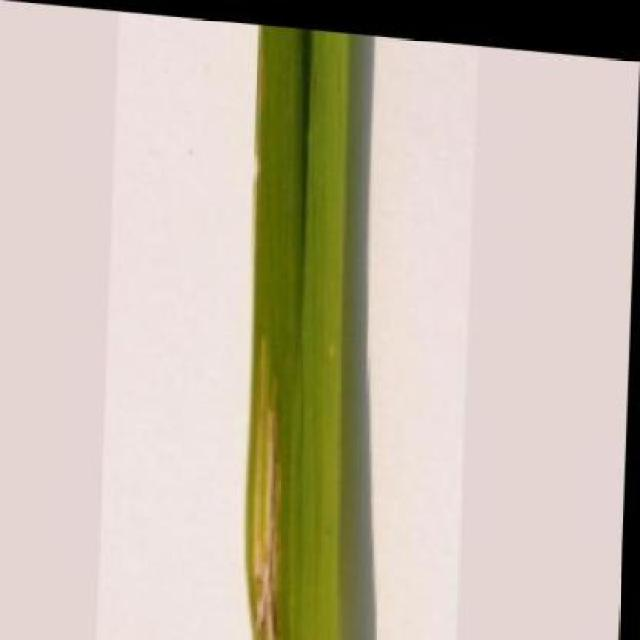Brown_Spot: (235, 18, 370, 640)
